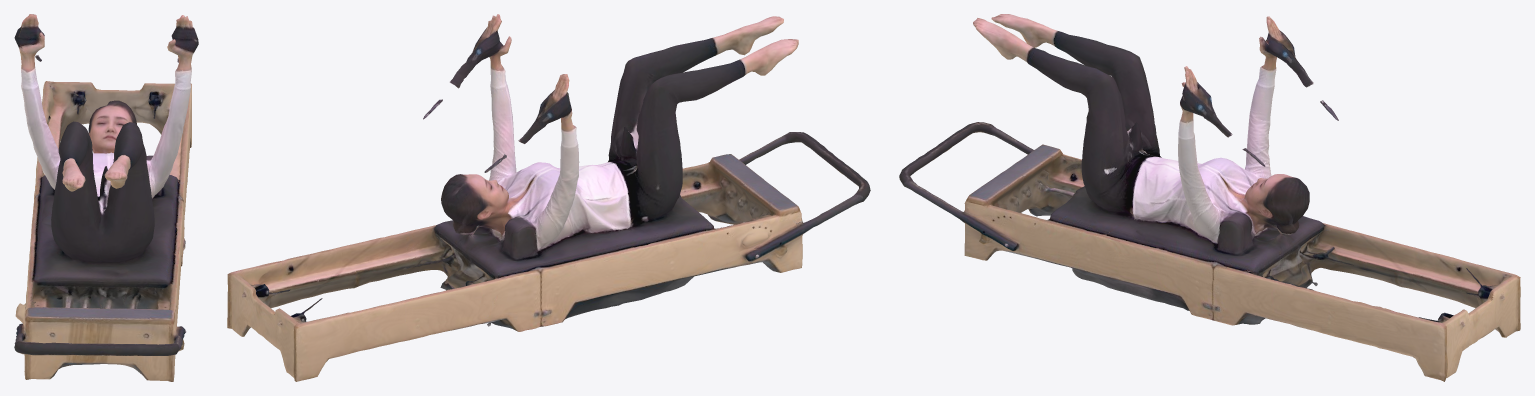
Rendered from pilates.glb.
3 views of the same model, side by side, from view 1: azimuth 30°, elevation 25°; view 2: azimuth 150°, elevation 25°; view 3: azimuth 270°, elevation 25° (orthographic). The views are drawn at different scales.
Parts seen in each view (by area): view 1: pilates; view 2: pilates; view 3: pilates.
Boxes of the visible parts, x1,y1,x2,y2 form: pilates: (14,14,198,381); pilates: (227,14,870,381); pilates: (899,14,1520,381).
Bounding box in the file's own units: 1.71 × 1.02 × 2.3.
1 material, 1 textured.
